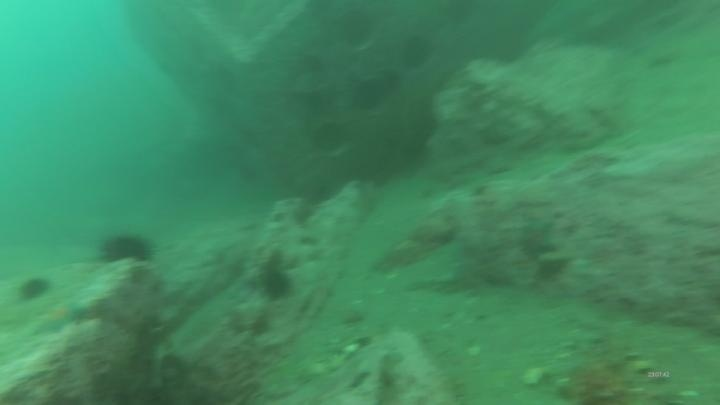echinus: (96, 230, 156, 267), (335, 6, 377, 51), (308, 118, 350, 156), (397, 32, 435, 72), (349, 76, 389, 114), (258, 265, 295, 304), (15, 273, 53, 306)
starfish: (29, 298, 90, 339), (515, 215, 561, 263)
